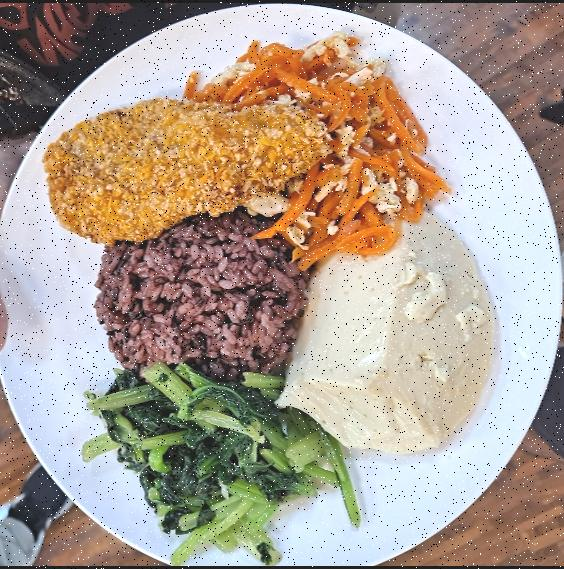chicken steak: (26, 89, 322, 247)
plate: (6, 12, 564, 566)
purple rice: (99, 225, 306, 376)
side dish: (176, 42, 443, 232), (87, 362, 334, 552), (286, 232, 496, 452)
